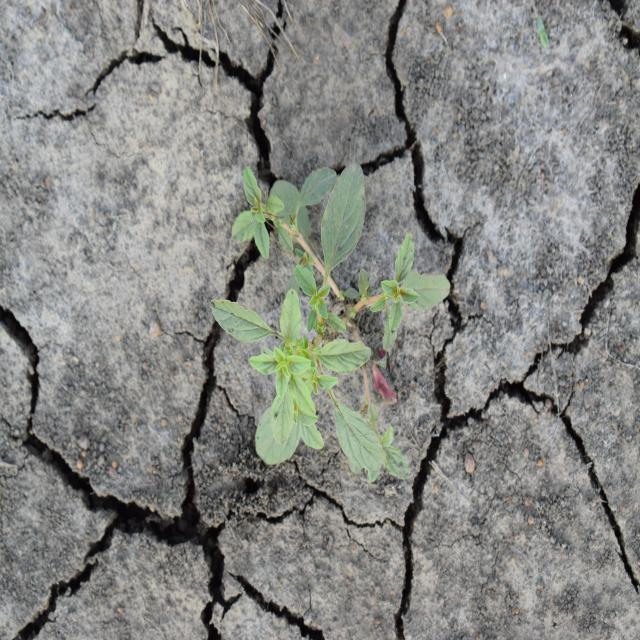Waterhemp: (210, 159, 452, 486)
